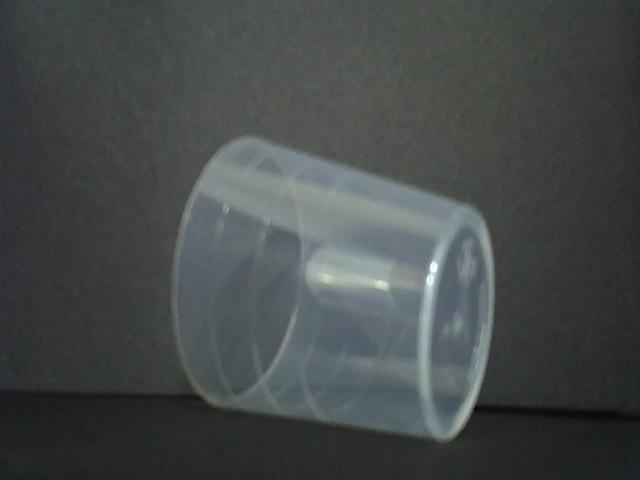cup: (168, 131, 497, 445)
